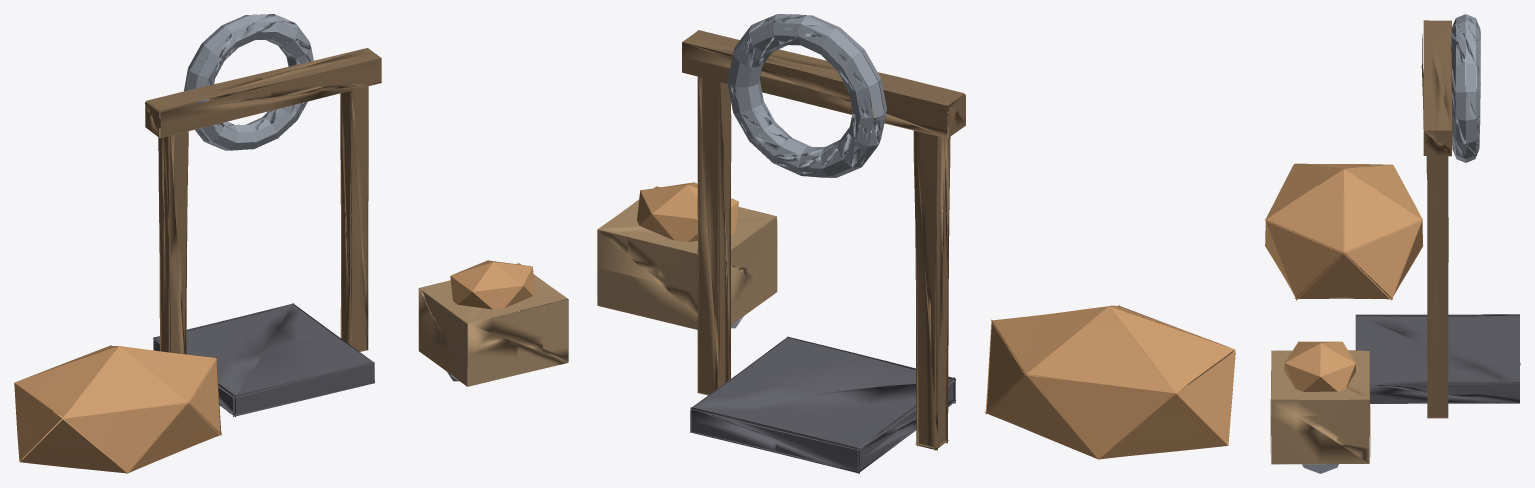
File: iron_mine.glb
3 renders of one model, left to right at view 1: azimuth 30°, elevation 25°; view 2: azimuth 150°, elevation 25°; view 3: azimuth 270°, elevation 25°, orthographic. The views are drawn at different scales.
Parts seen in each view (by area): view 1: IronMineLegL; view 2: IronMineLegL; view 3: IronMineLegL.
Boxes of the visible parts, x1,y1,x2,y2 form: IronMineLegL: (14,14,568,473); IronMineLegL: (597,14,1235,473); IronMineLegL: (1265,14,1520,473).
Bounding box in the file's own units: 2.55 × 1.73 × 1.09.
